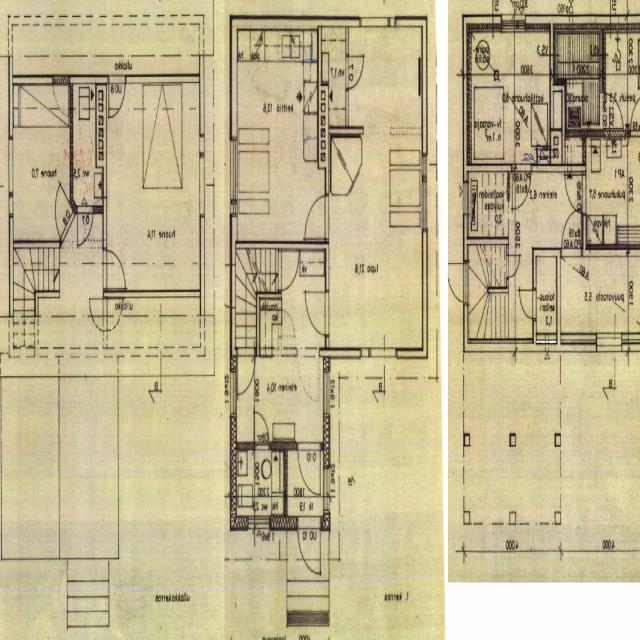door: (49, 185, 75, 242), (298, 516, 320, 577), (298, 442, 320, 497), (305, 195, 329, 239), (306, 292, 330, 335), (512, 165, 532, 213), (445, 263, 469, 302), (562, 208, 581, 256), (564, 174, 586, 214), (278, 251, 300, 289), (237, 348, 255, 394), (103, 250, 124, 288), (601, 93, 622, 128), (109, 75, 125, 117), (254, 410, 270, 450), (103, 299, 122, 331), (78, 205, 93, 244), (88, 299, 106, 331), (346, 57, 363, 88), (520, 290, 536, 318), (631, 90, 640, 136), (506, 256, 518, 276)
